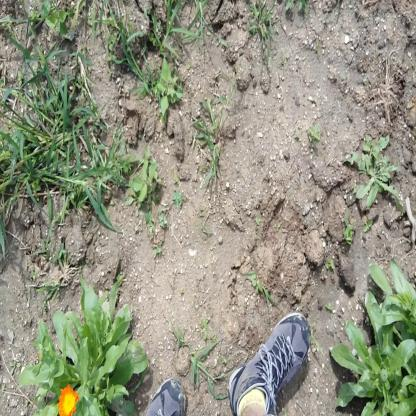marigold: (60, 385, 77, 416)
